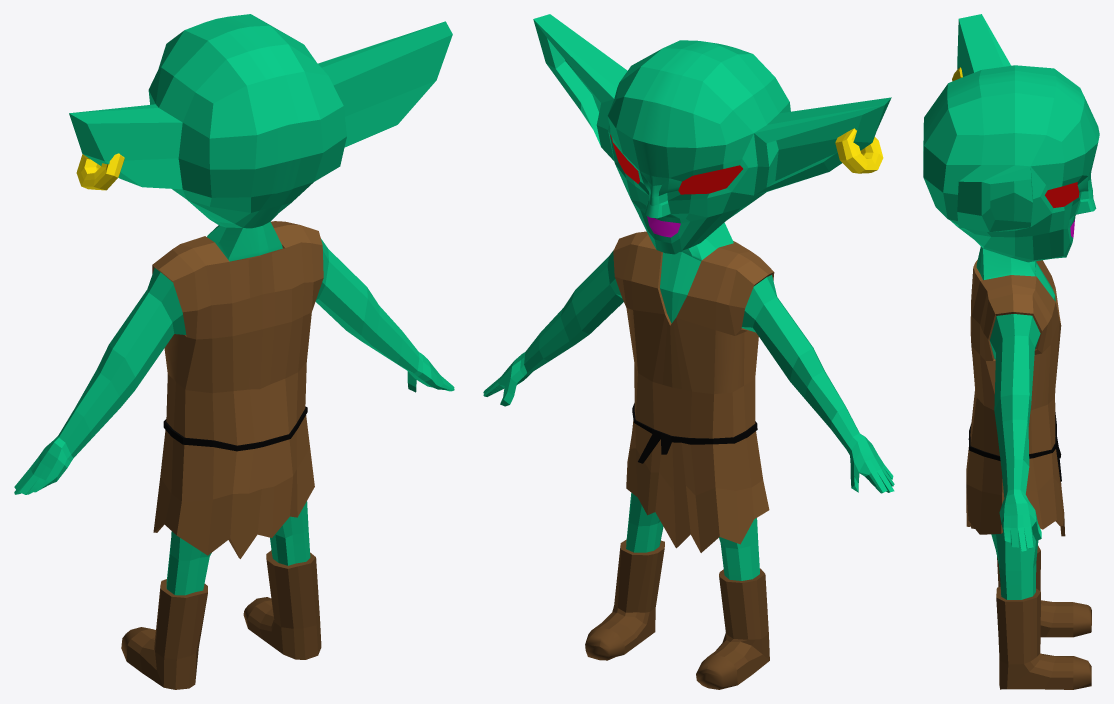
File: GoblinMesh.fbx
3 renders of one model, left to right at view 1: azimuth 30°, elevation 25°; view 2: azimuth 150°, elevation 25°; view 3: azimuth 270°, elevation 25°, orthographic. The views are drawn at different scales.
Parts seen in each view (by area): view 1: pTorus3; view 2: pTorus3; view 3: pTorus3.
Boxes of the visible parts, bbox=[...] form: pTorus3: bbox=[14, 14, 454, 689]; pTorus3: bbox=[483, 14, 894, 689]; pTorus3: bbox=[923, 14, 1099, 689].
Size of the model in its own units: 146 by 204 by 55.59.
